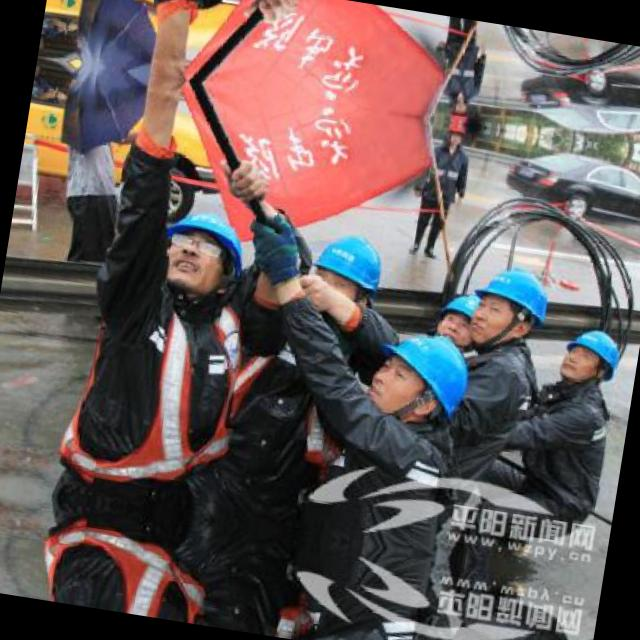helmet: (150, 192, 256, 312), (358, 324, 470, 430), (298, 219, 396, 327), (462, 254, 562, 354), (556, 318, 626, 388), (433, 282, 489, 346), (444, 122, 469, 147), (448, 98, 473, 123)
